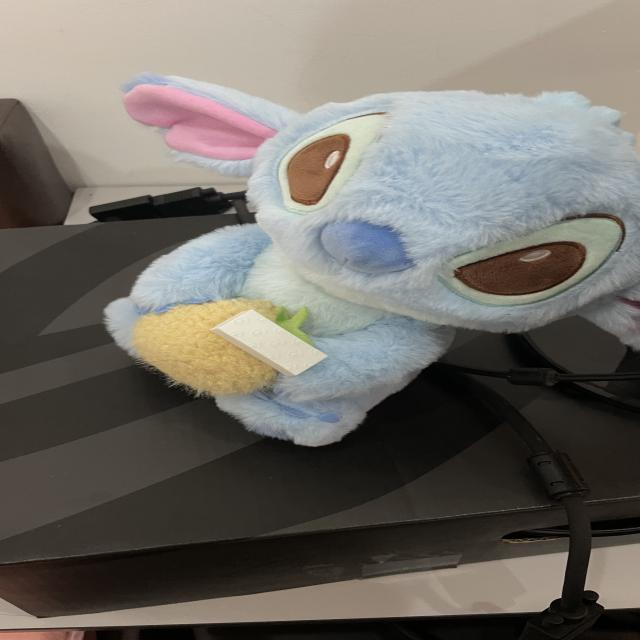eraser: (211, 310, 327, 376)
